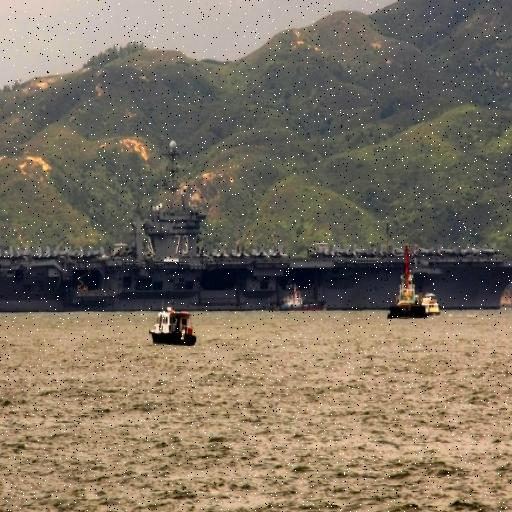Portanaves: (1, 121, 512, 323)
